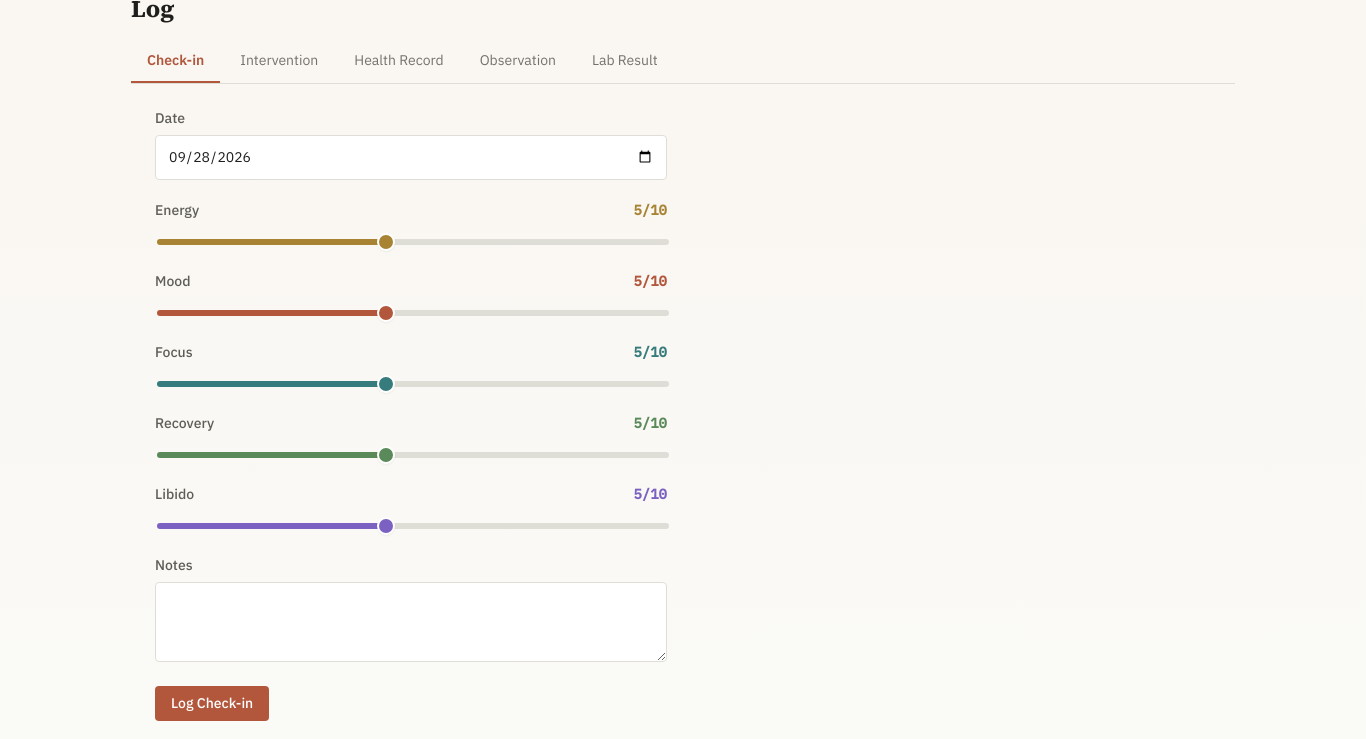
DataEntry › switching tabs via click updates aria-selected and the tabpanel
Click the tab "Intervention": (279,61) [224,40,334,83]
(page scrolled)
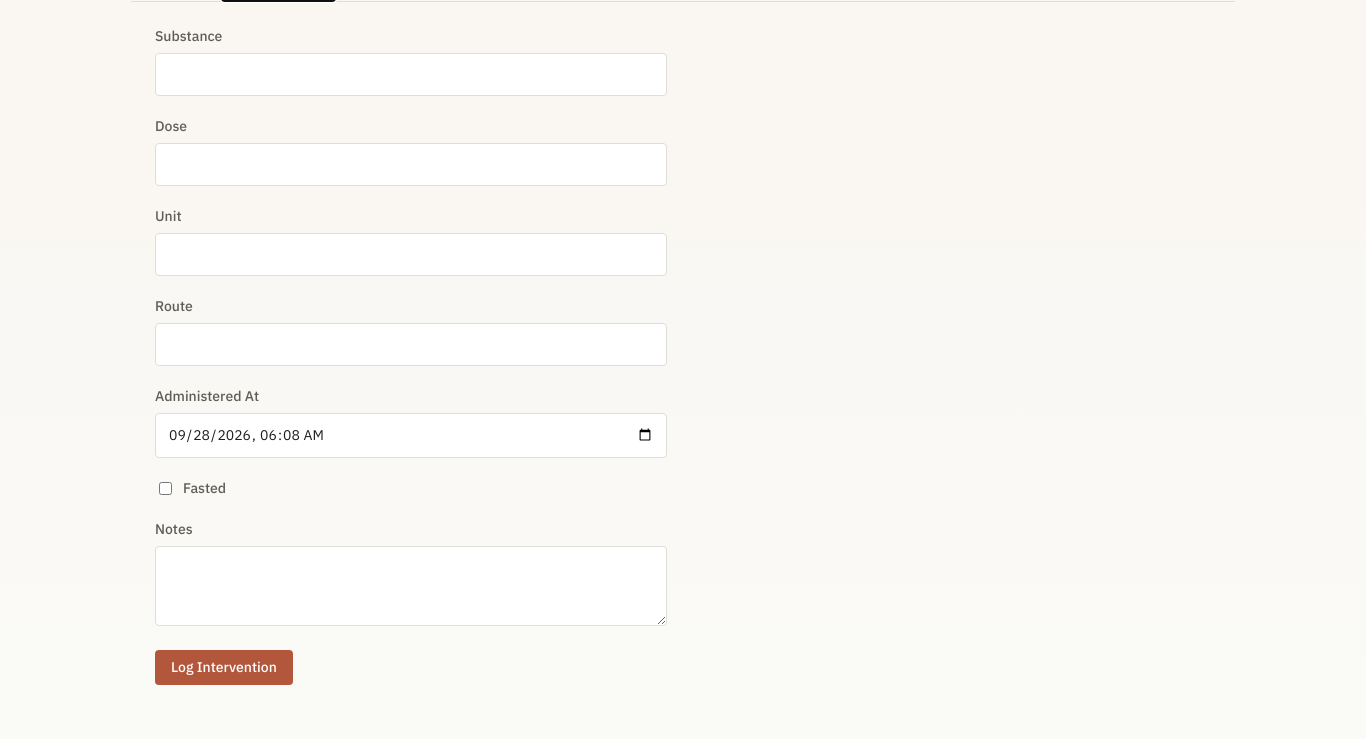
Now the panel is shown, box [155,27,667,686]
